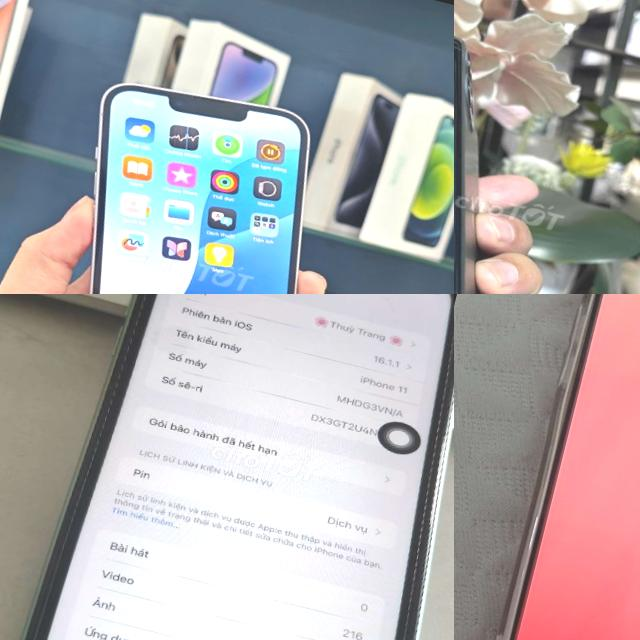gen_11: (0, 294, 454, 640), (454, 37, 477, 294)
gen_14: (19, 58, 359, 294)
gen_16: (494, 294, 640, 640)
